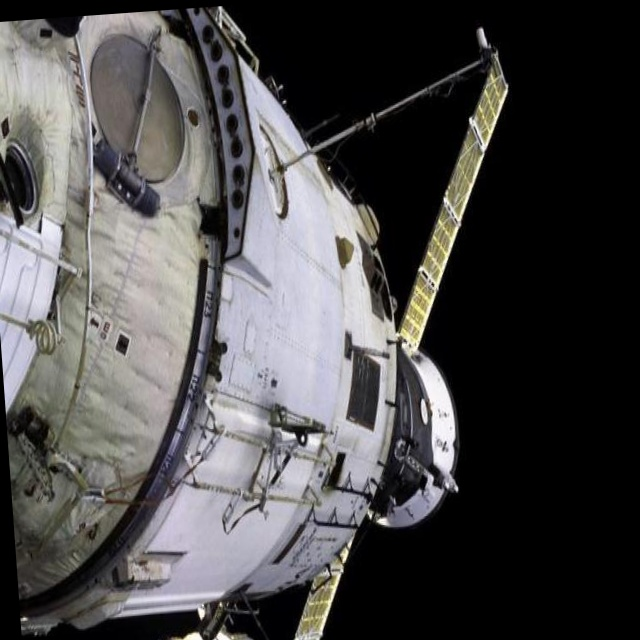satellite: (0, 0, 539, 640)
